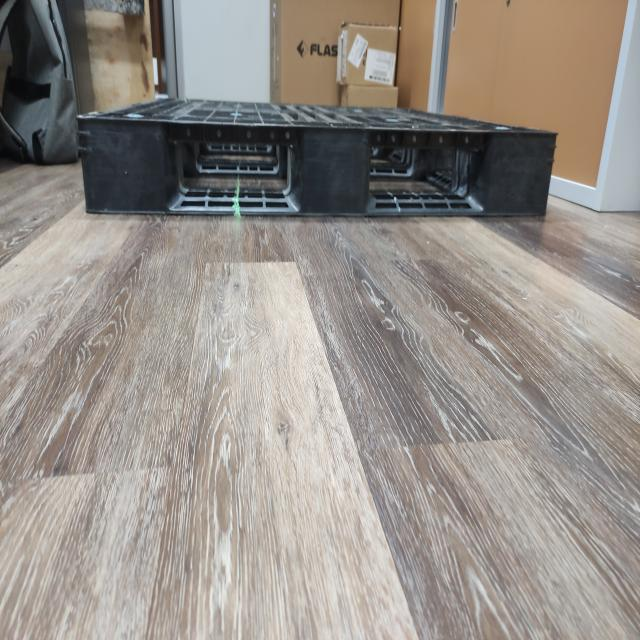block: (77, 114, 169, 220), (298, 123, 374, 217), (489, 129, 554, 220)
front: (74, 107, 558, 224)
